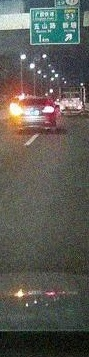L_light: (13, 108, 22, 114)
R_light: (42, 106, 54, 113)
T_light: (30, 98, 39, 100)
night-left: (11, 96, 57, 133)
